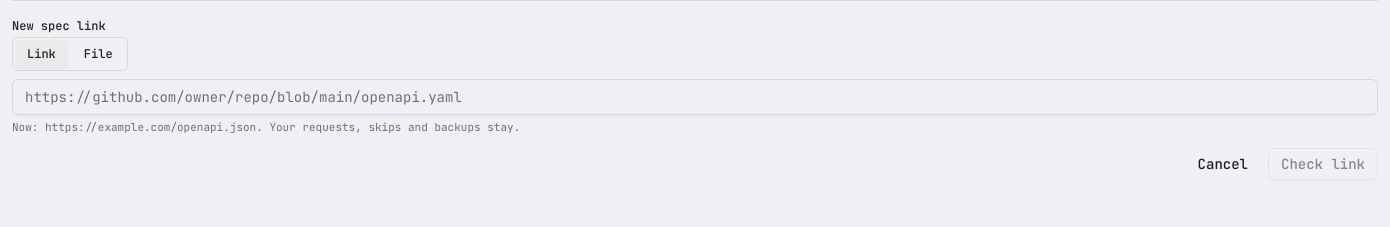
Scenario: ChangeLinkForm › a_stale_error_asks_to_check_again
In the field named "New spec link": (695,97) [12,79,1378,115], type "https://example.com/other.json"
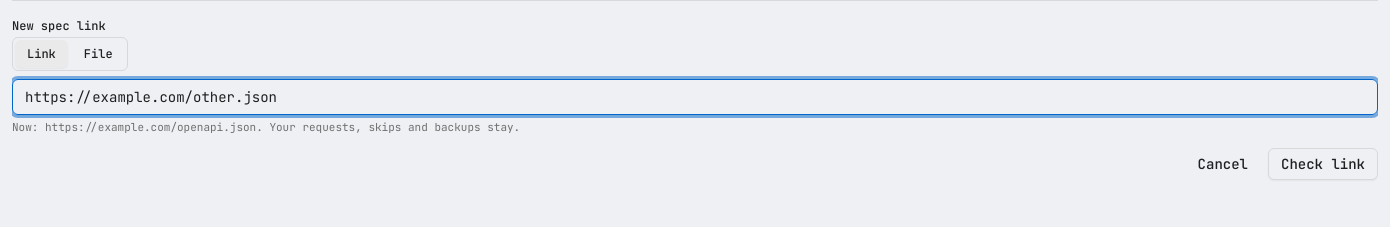
Click the button "Check link": (1323,164) [1268,148,1378,180]
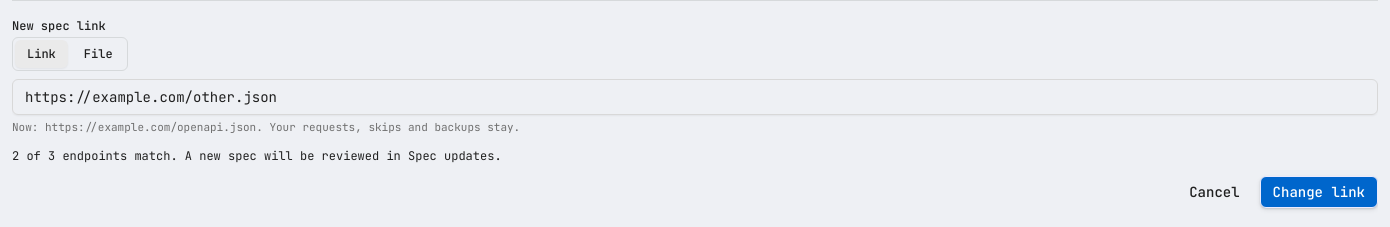
Click the button "Change link": (1319,192) [1260,176,1378,208]
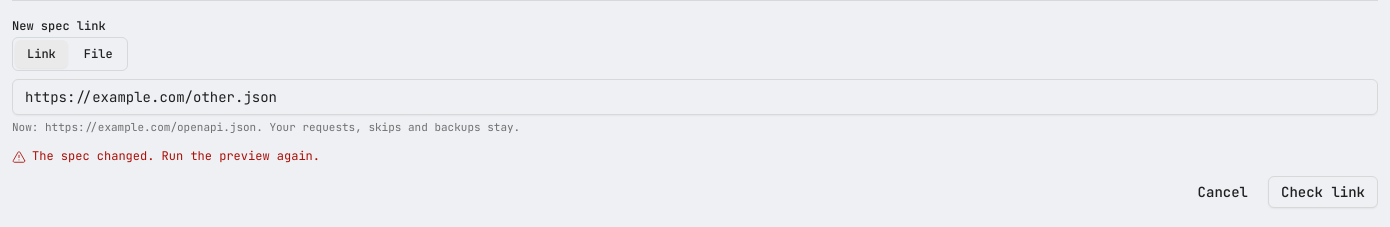
Expected: the message reads "The spec changed. Run the preview again.", [32,148,320,164]
Expected: the button "Change link" is gone
Expected: the button "Check link" is shown, [1268,176,1378,208]
